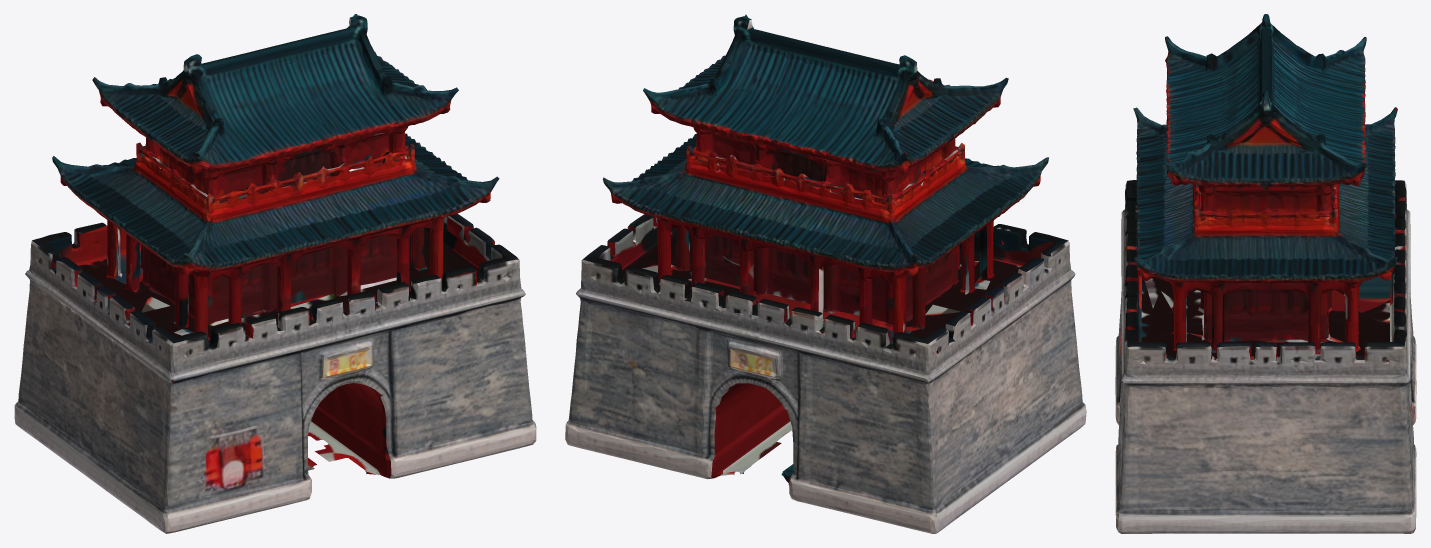
Rendered from mdl_city_gate_001.glb.
3 renders of one model, left to right at view 1: azimuth 30°, elevation 25°; view 2: azimuth 150°, elevation 25°; view 3: azimuth 270°, elevation 25°, orthographic.
Visible parts, largest first — view 1: tmpcz_nrl9p.ply; view 2: tmpcz_nrl9p.ply; view 3: tmpcz_nrl9p.ply.
Boxes of the visible parts, <box> form: tmpcz_nrl9p.ply: <box>14,14,536,533</box>; tmpcz_nrl9p.ply: <box>565,14,1086,533</box>; tmpcz_nrl9p.ply: <box>1115,14,1416,533</box>.
Size of the model in its own units: 0.9689 by 0.9911 by 0.6879.
Materials: 1 (1 with a texture image).
